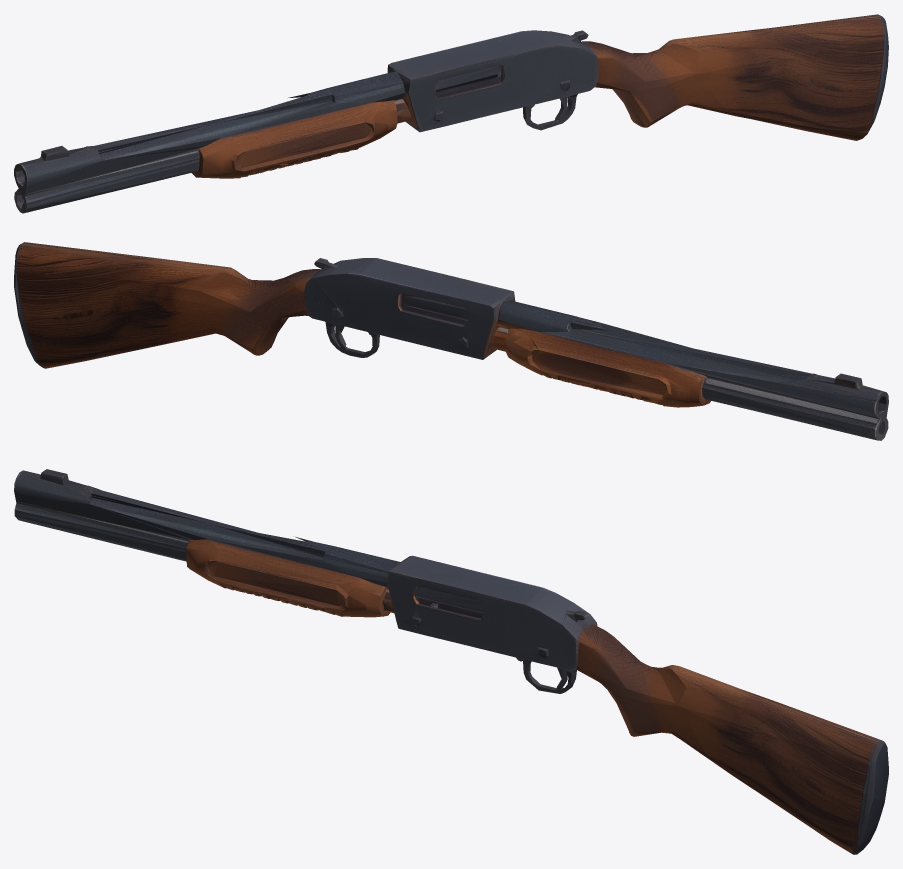
The model's file is rifle.glb.
3 renders of one model, top to bottom at view 1: azimuth 30°, elevation 25°; view 2: azimuth 150°, elevation 25°; view 3: azimuth 330°, elevation 25°, orthographic.
Size of the model in its own units: 1.9 by 0.3895 by 0.1118.
Materials: 1 (1 with a texture image).
